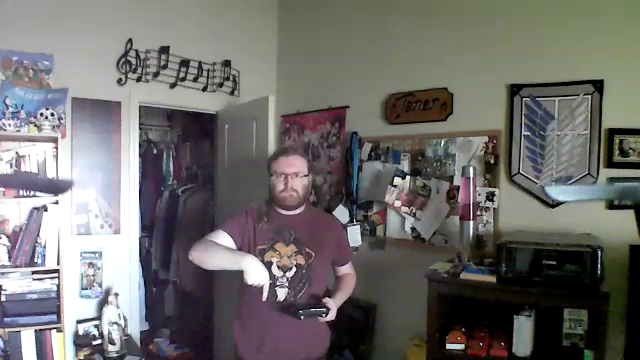down: (239, 250, 270, 308)
